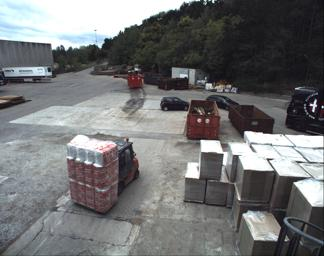rockwool_batts: (64, 136, 118, 213)
